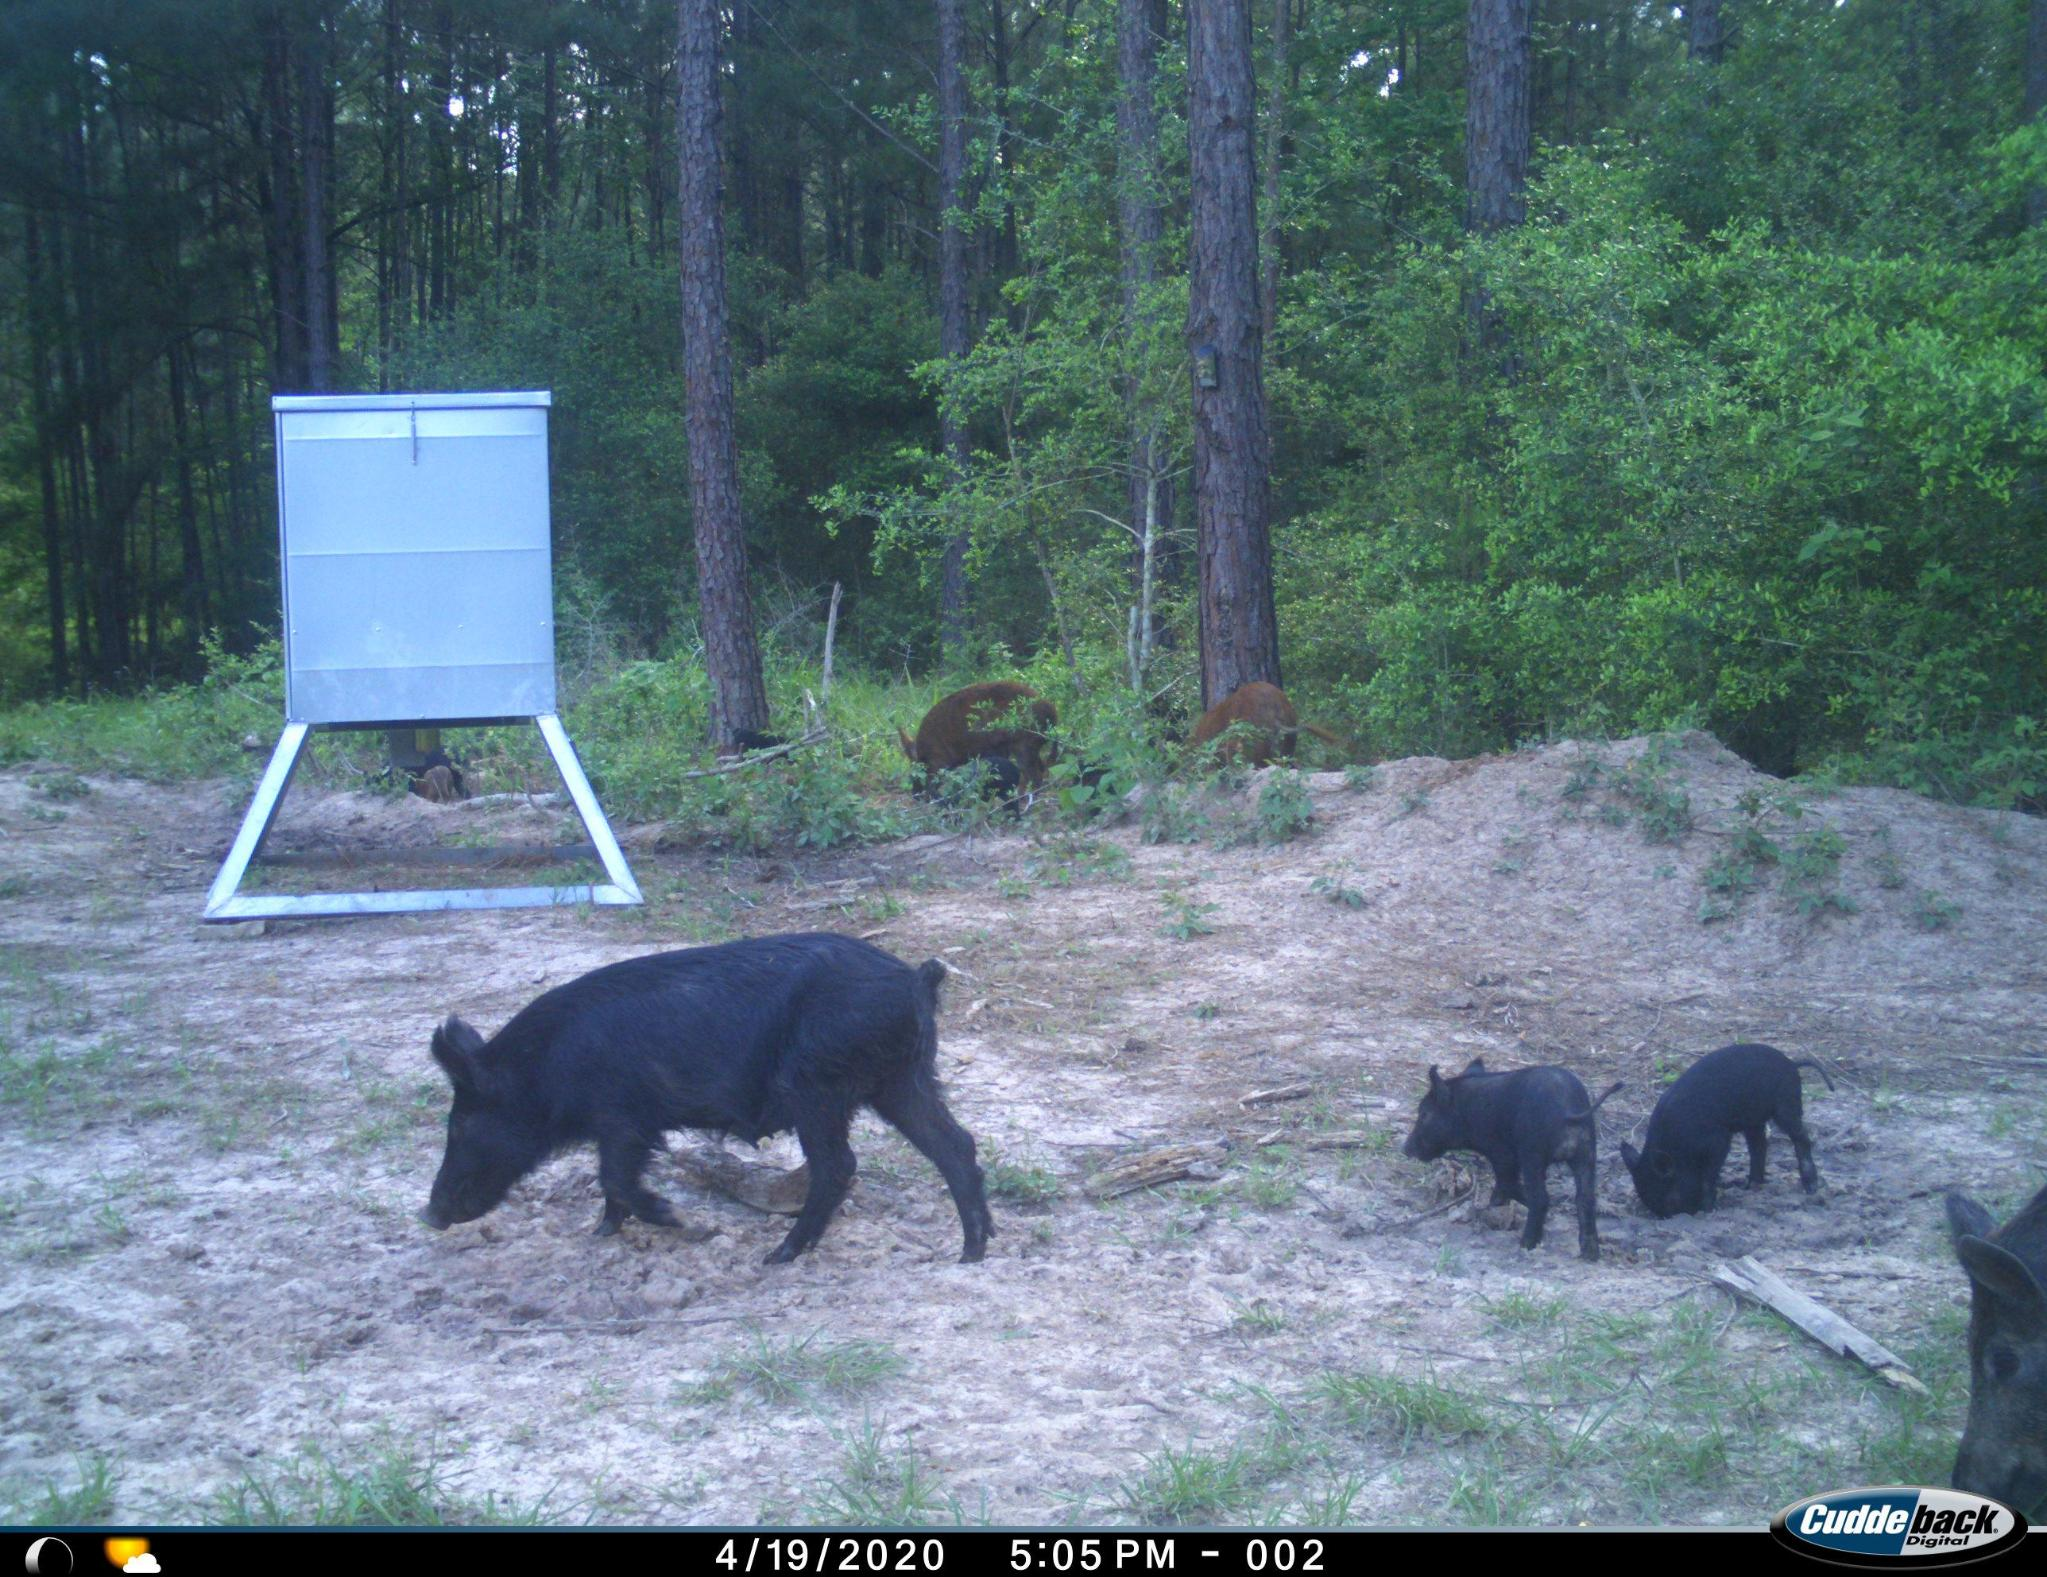Hog: (374, 904, 1019, 1292), (1390, 1050, 1621, 1267), (1615, 1037, 1838, 1227), (1931, 1158, 2047, 1524), (888, 669, 1068, 817), (1154, 676, 1340, 774)
